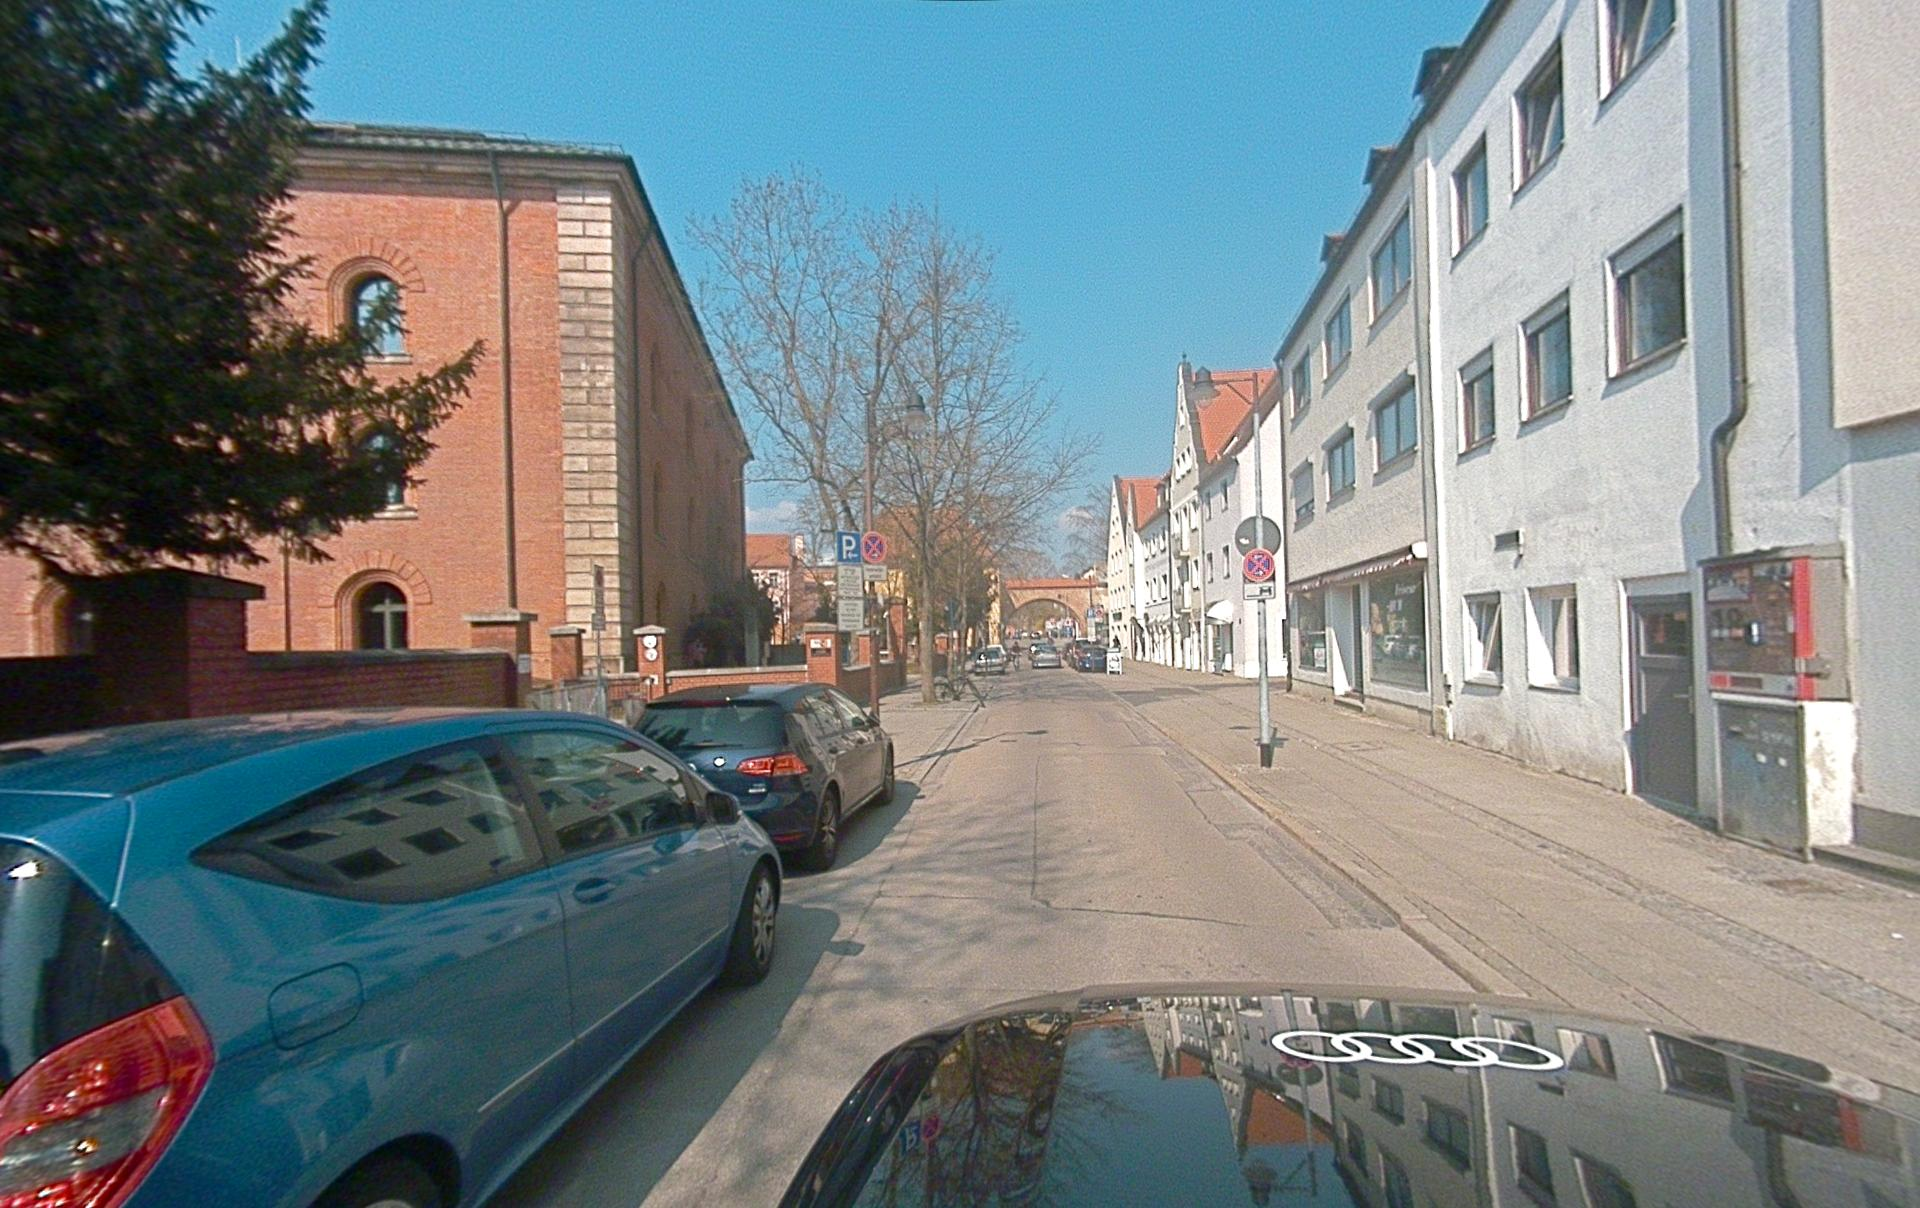car: (1, 705, 783, 1207), (778, 980, 1919, 1207), (631, 681, 895, 871), (1068, 640, 1107, 672), (972, 645, 1008, 674), (1030, 641, 1061, 669), (1107, 648, 1123, 675)
traffic sign: (836, 531, 861, 563)
